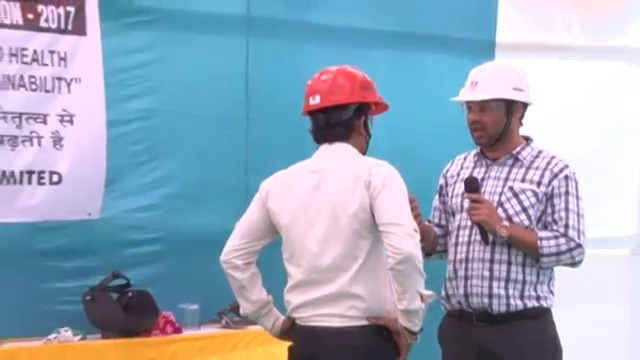helmet: (302, 62, 391, 117), (450, 61, 536, 108)
helmet_on: (303, 62, 390, 160), (449, 60, 536, 153)
person: (218, 61, 427, 360), (426, 59, 588, 360)
